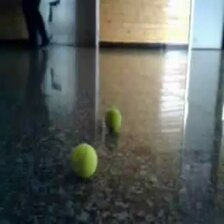tennis: (70, 143, 97, 178), (105, 109, 121, 135)
